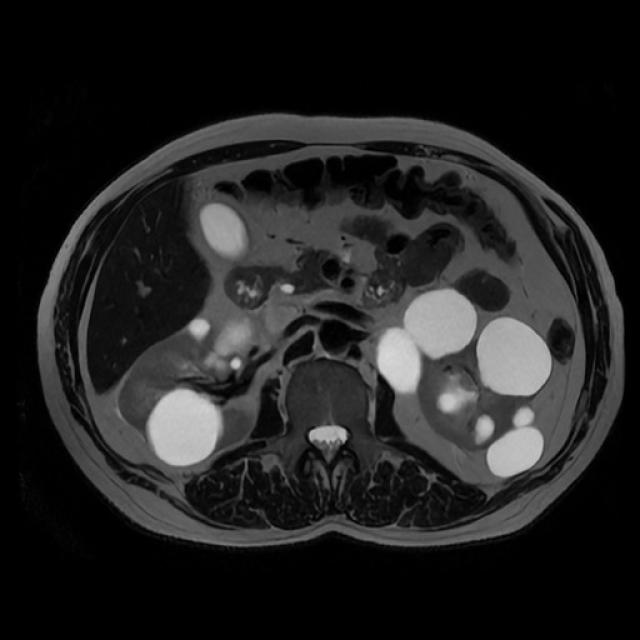sag: (118, 315, 257, 467)
sol: (376, 287, 553, 476)
